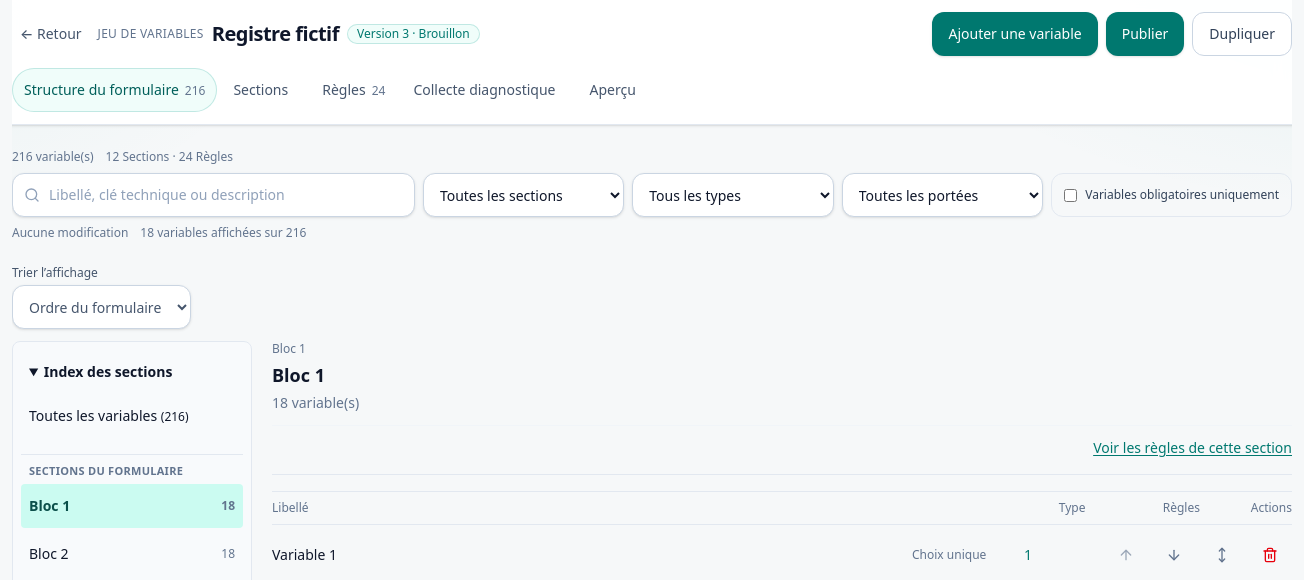
Test: TemplateVersionEditor — 216 variables / 24 regles (UX-14) › T24 : filtrer les regles par variable concernee, type et bloc
Click the tab "Règles24".
click(354, 90)  # box [310, 68, 397, 112]
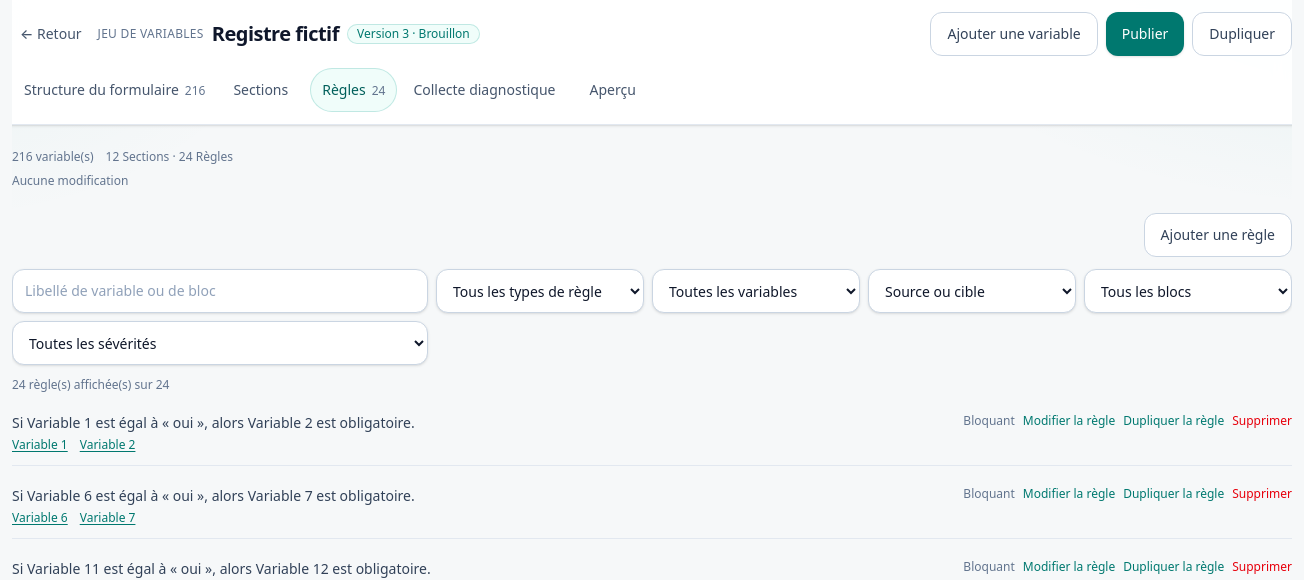
Select "Variable 7" in the dropdown named "Variable concernée" at [756, 291], box [652, 269, 860, 313]
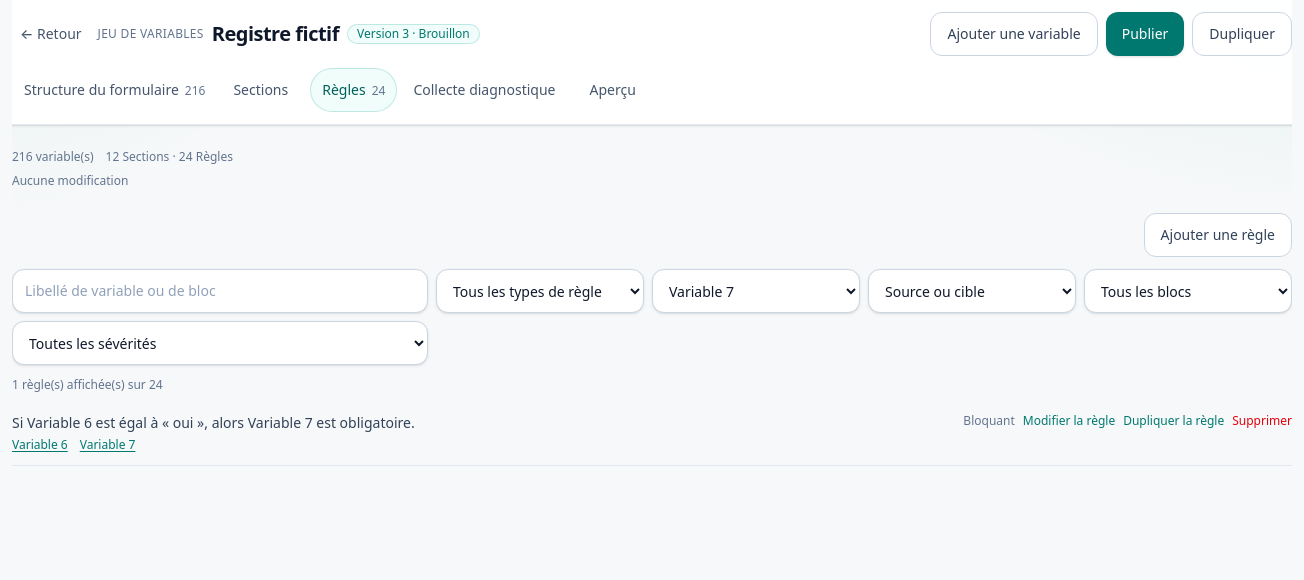
Result: the text "1 règle(s) affichée(s) sur 24" is shown at [12, 377, 163, 393]
Select "Toutes les variables" in the dropdown named "Variable concernée" at [756, 291], box [652, 269, 860, 313]
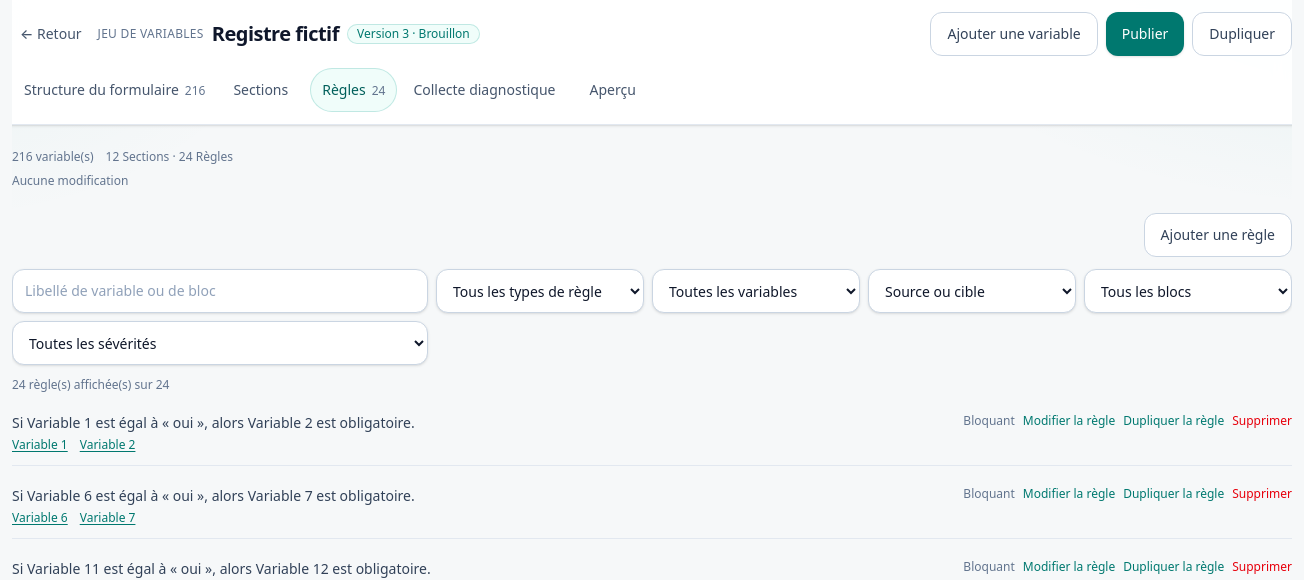
Select "Condition d’affichage" in the dropdown named "Filtrer par type de règle" at [540, 291], box [436, 269, 644, 313]
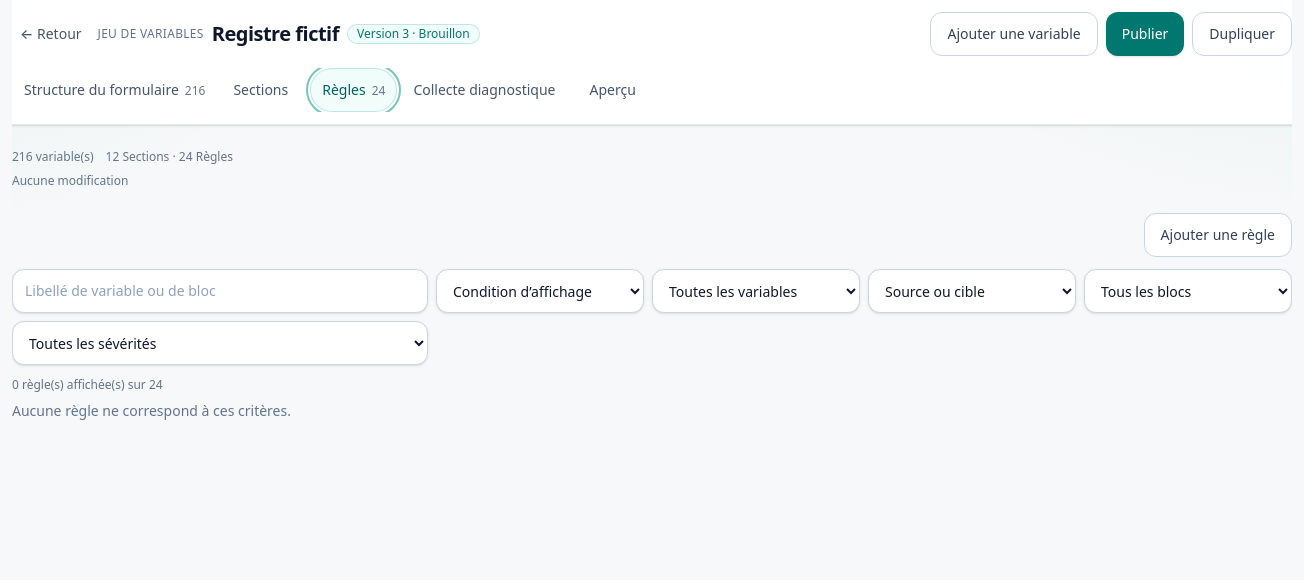
Result: the text "0 règle(s) affichée(s) sur 24" is shown at [12, 377, 163, 393]
Result: the text "Aucune règle ne correspond à ces critères." is shown at [12, 401, 291, 420]
